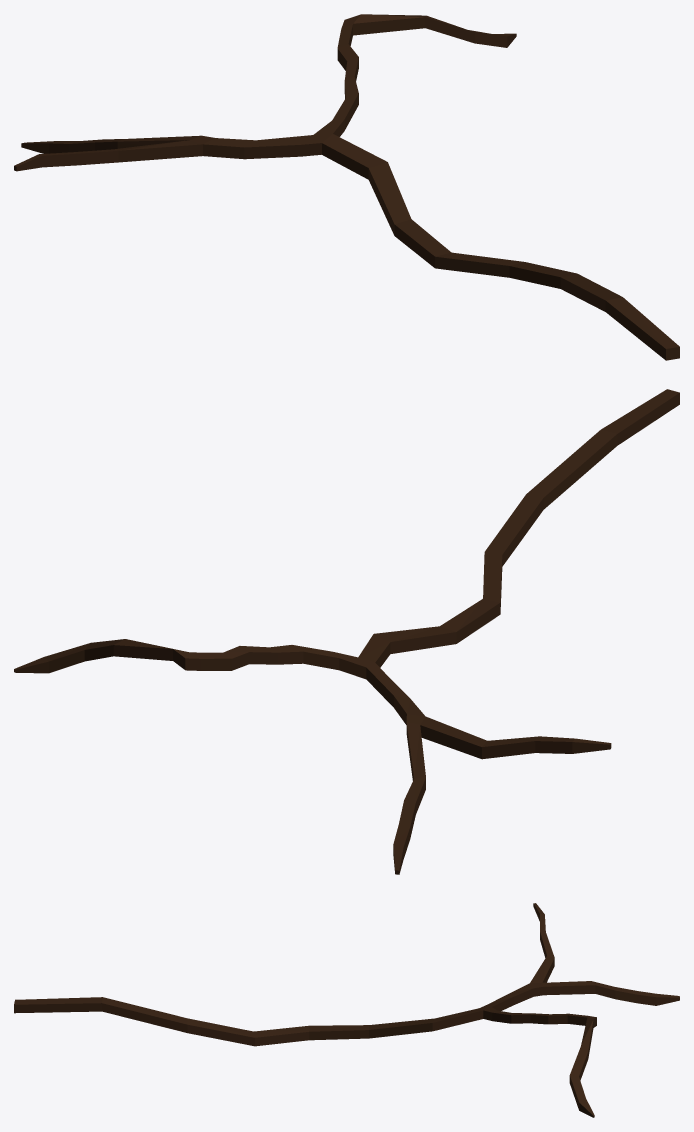
Rendered from Brench.fbx.
The picture shows the model from 3 angles, top to bottom: view 1: azimuth 30°, elevation 25°; view 2: azimuth 150°, elevation 25°; view 3: azimuth 270°, elevation 25°; orthographic projection. The views are drawn at different scales.
Visible parts, largest first — view 1: Brench; view 2: Brench; view 3: Brench.
Part boxes in pixels (box(x1,y1,x2,y2)): Brench: box(14, 14, 679, 360); Brench: box(14, 389, 679, 874); Brench: box(14, 903, 679, 1117).
Size of the model in its own units: 7.68 by 1.47 by 11.28.
